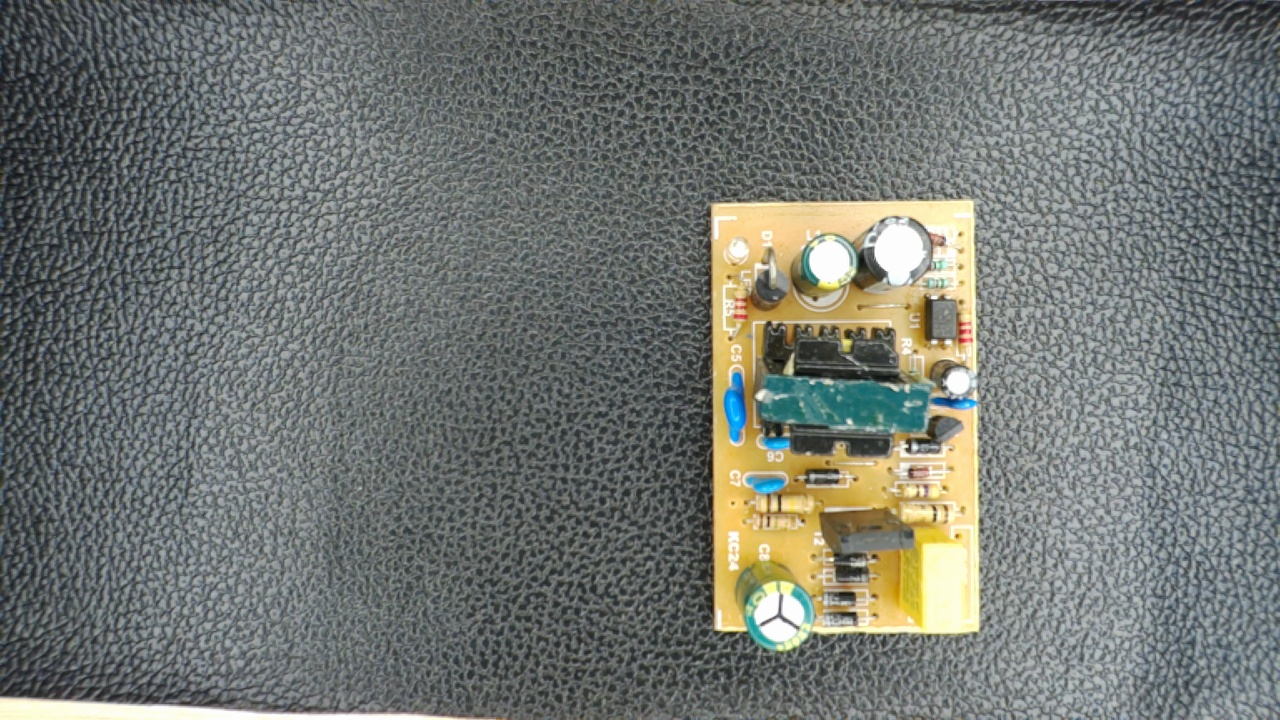hv_capacitor: (735, 555, 816, 653)
mov: (719, 360, 755, 447)
optocoupler: (920, 287, 959, 348)
